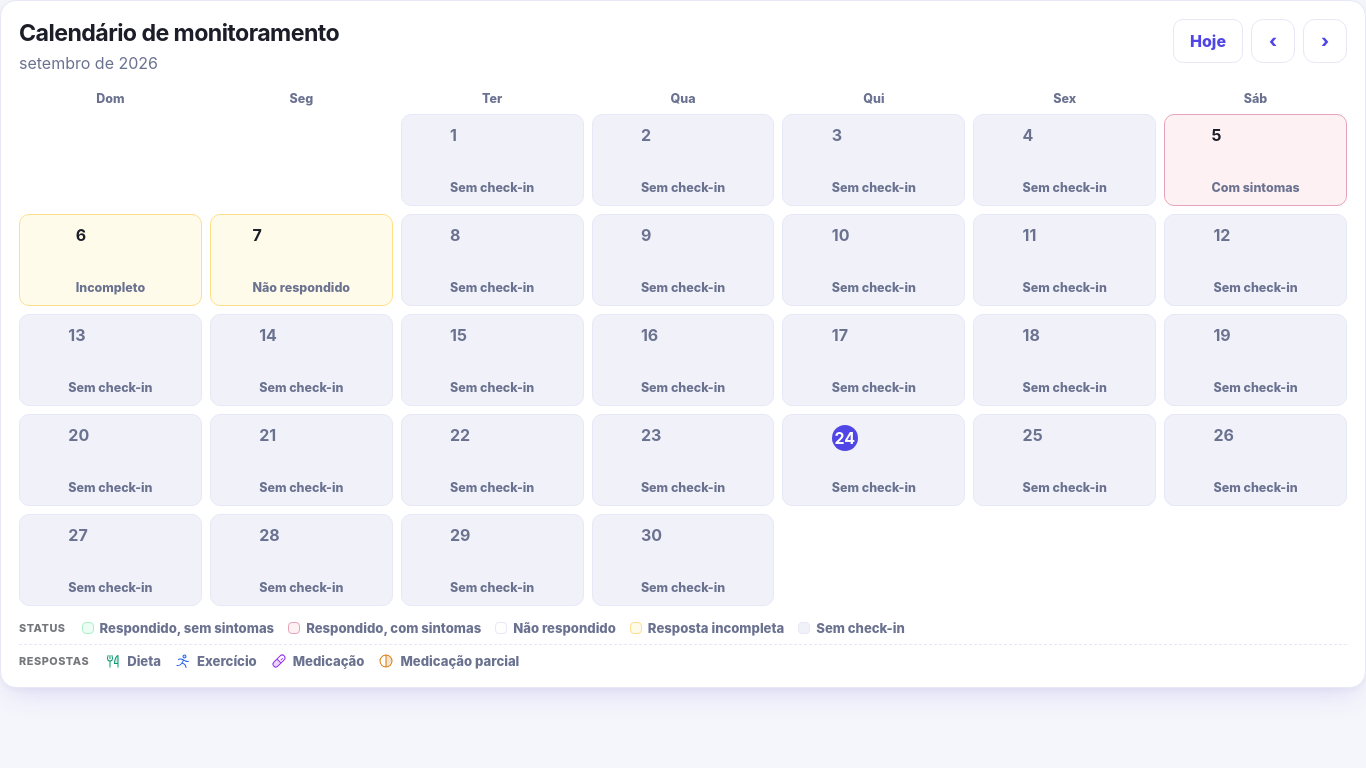
Test: calendário de monitoramento (visão do profissional, somente leitura) › oculta a descrição do sintoma e o relato da dieta quando revealSensitive é falso
Click the button "5 Com sintomas". click: (1256, 160)
box: [1164,114,1347,206]
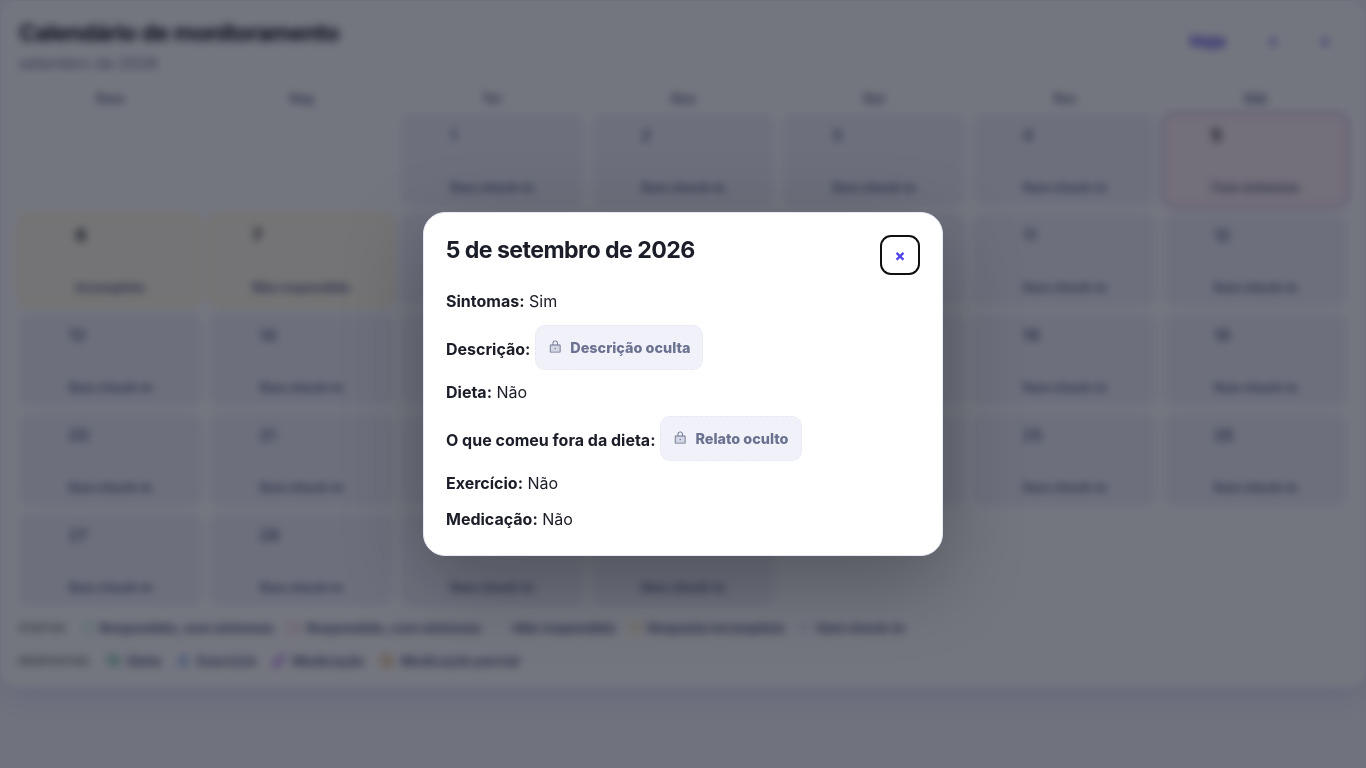
Expected: the text "Sintomas:" is shown, [446,291,524,311]
Expected: the text "Descrição oculta" is shown 2 times, [535,325,704,370]; [660,416,802,461]
